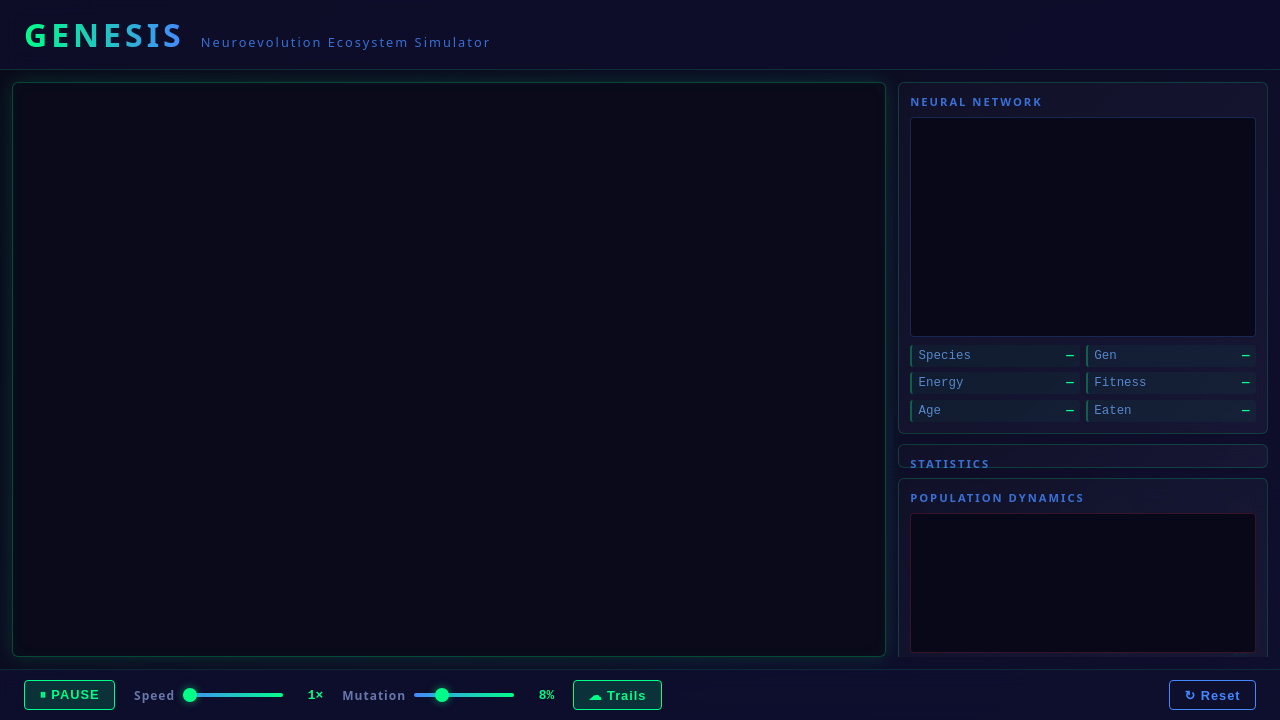
Test: App › toggles trails on button click
Click the button "☁ Trails" at point(618, 695), box top-left (573, 680), bottom-right (662, 710)
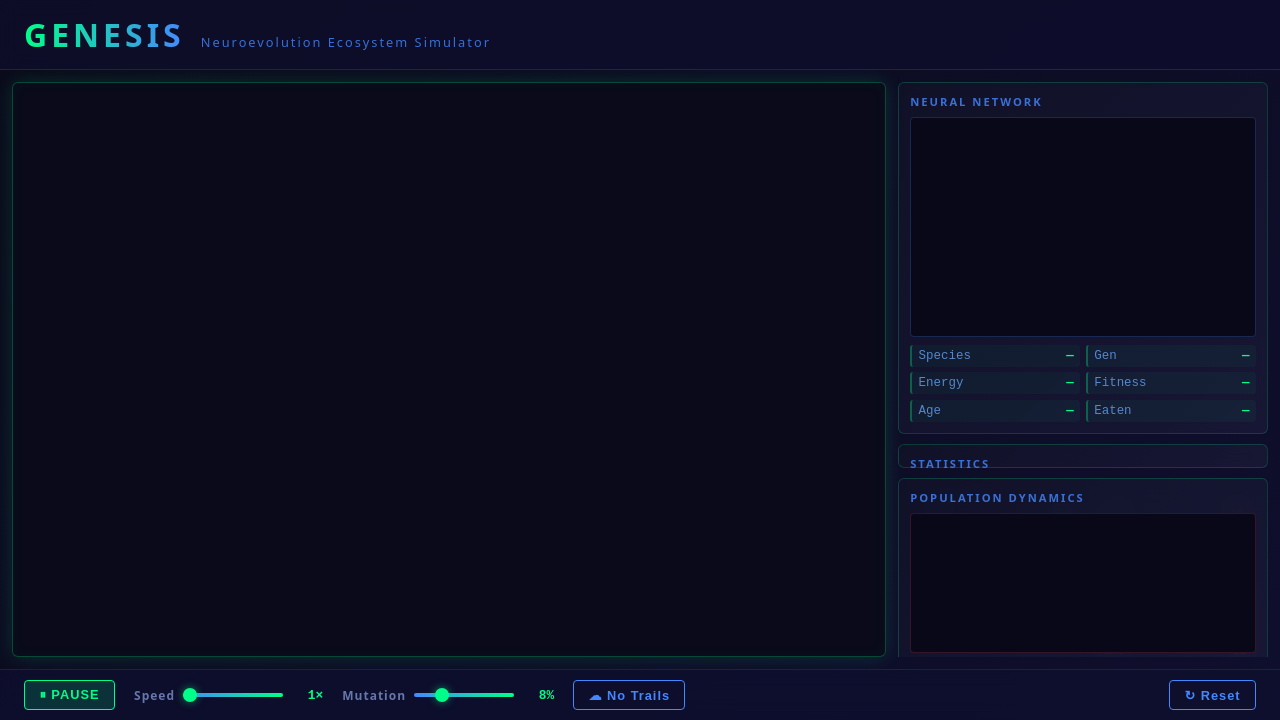
Check: the button "☁ No Trails" is shown, box top-left (573, 680), bottom-right (686, 710)
